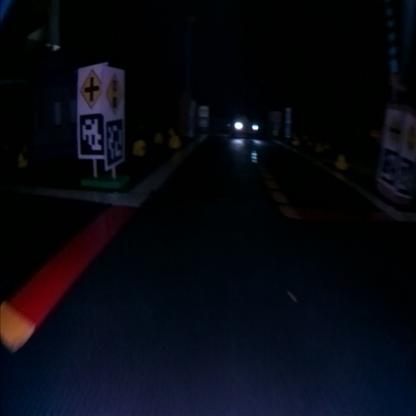Duckie: (134, 140, 147, 156), (336, 154, 348, 170), (18, 154, 29, 168), (170, 136, 182, 148), (155, 134, 163, 142), (292, 137, 298, 145), (317, 143, 323, 151)
Duckiebot: (230, 114, 260, 136)
Intersection sign: (79, 66, 102, 110), (384, 109, 404, 147)
QR code: (78, 114, 104, 158), (107, 118, 124, 166), (397, 156, 415, 195)
Signal sign: (106, 72, 125, 114)
